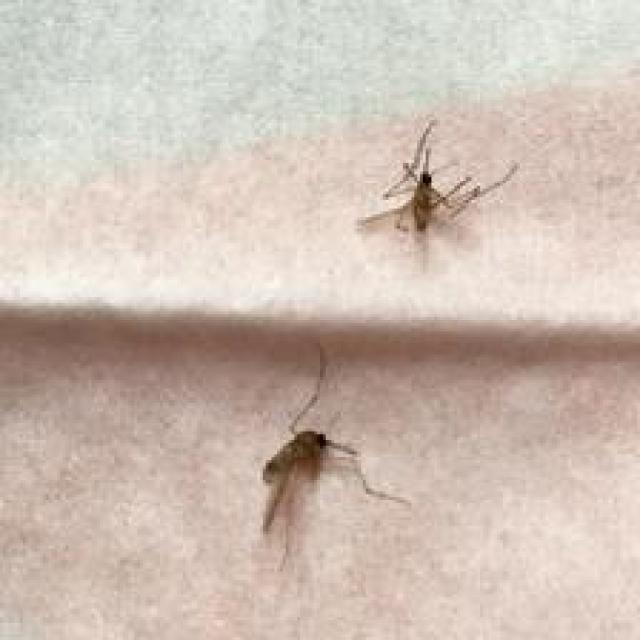Culex: (353, 116, 518, 273)
